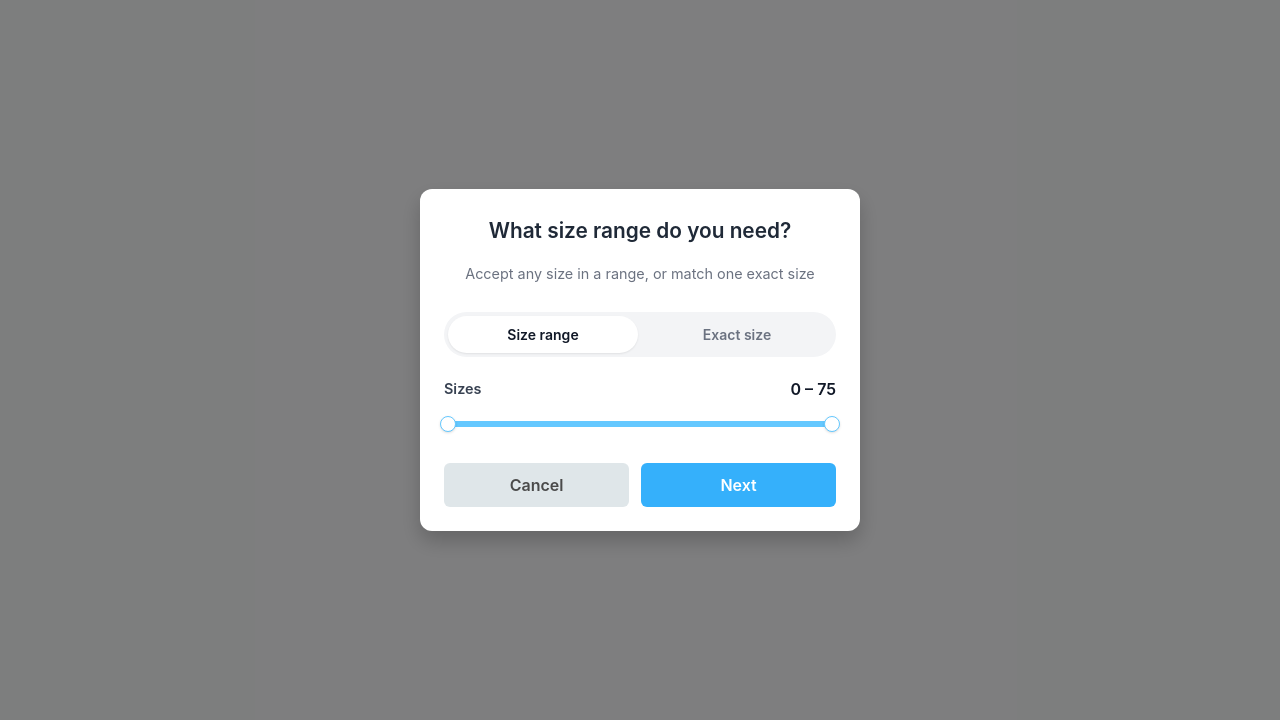
Test case: QuantityModal size availability › allows advancing to the quantity step when the size has stock
Click the button "Next": (739,485) [641,463,836,507]
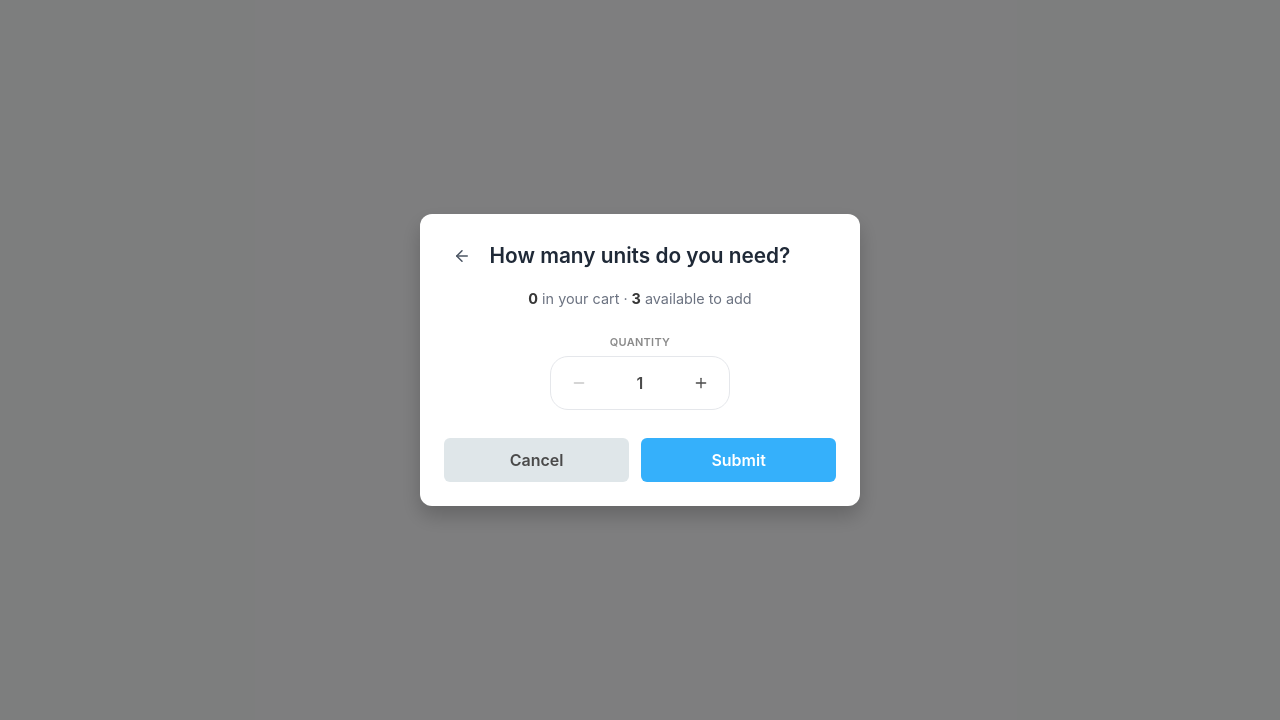
Result: the heading "How many units do you need?" is shown at [480,241,800,270]
Result: the text "0 in your cart · 3 available to add" is shown at [528,290,752,307]
